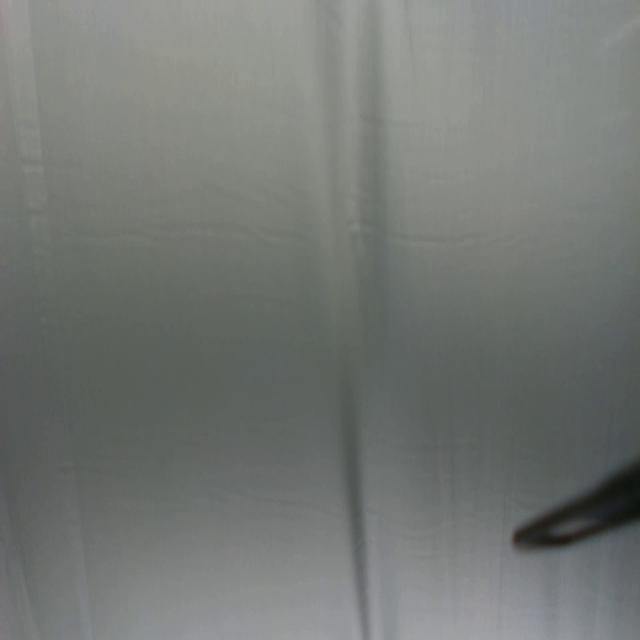crease: (1, 1, 95, 640)
